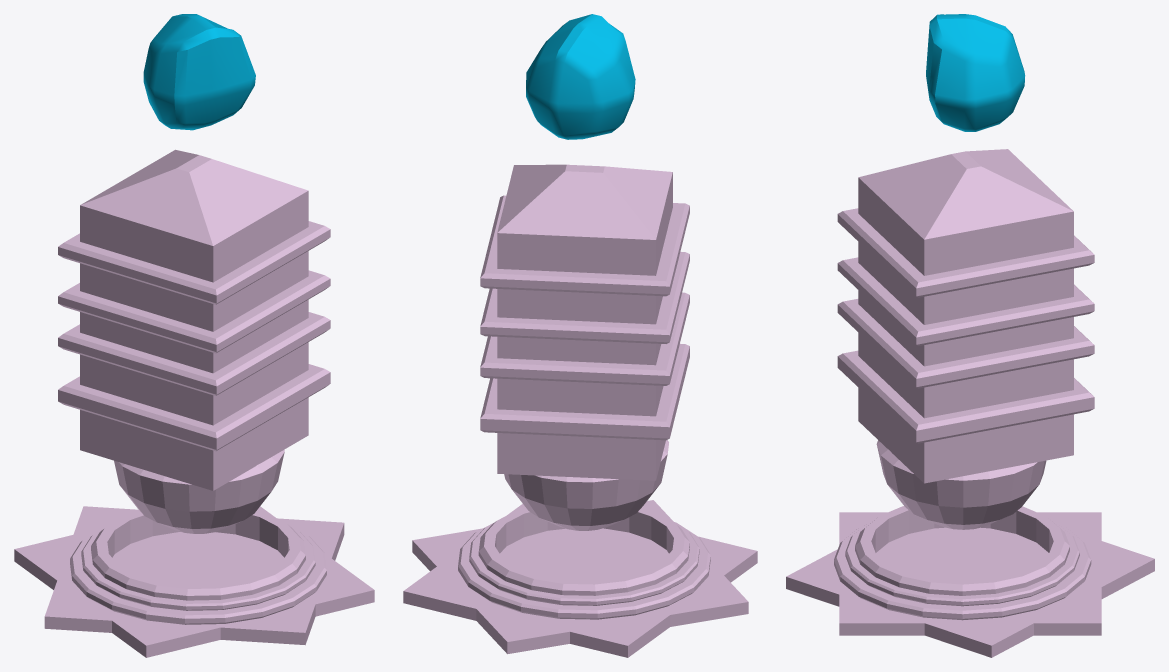
The picture shows the model from 3 angles, left to right: view 1: azimuth 30°, elevation 25°; view 2: azimuth 150°, elevation 25°; view 3: azimuth 270°, elevation 25°; orthographic projection.
Visible parts, largest first — view 1: t6, Crystal8; view 2: t6, Crystal8; view 3: t6, Crystal8.
Part boxes in pixels (x1,y1,x2,y2): t6: (14,149,374,657); Crystal8: (143,14,255,130); t6: (403,164,757,657); Crystal8: (526,14,635,139); t6: (786,149,1154,657); Crystal8: (926,14,1025,131).
Bounding box in the file's own units: 1.08 × 1.82 × 1.08.
